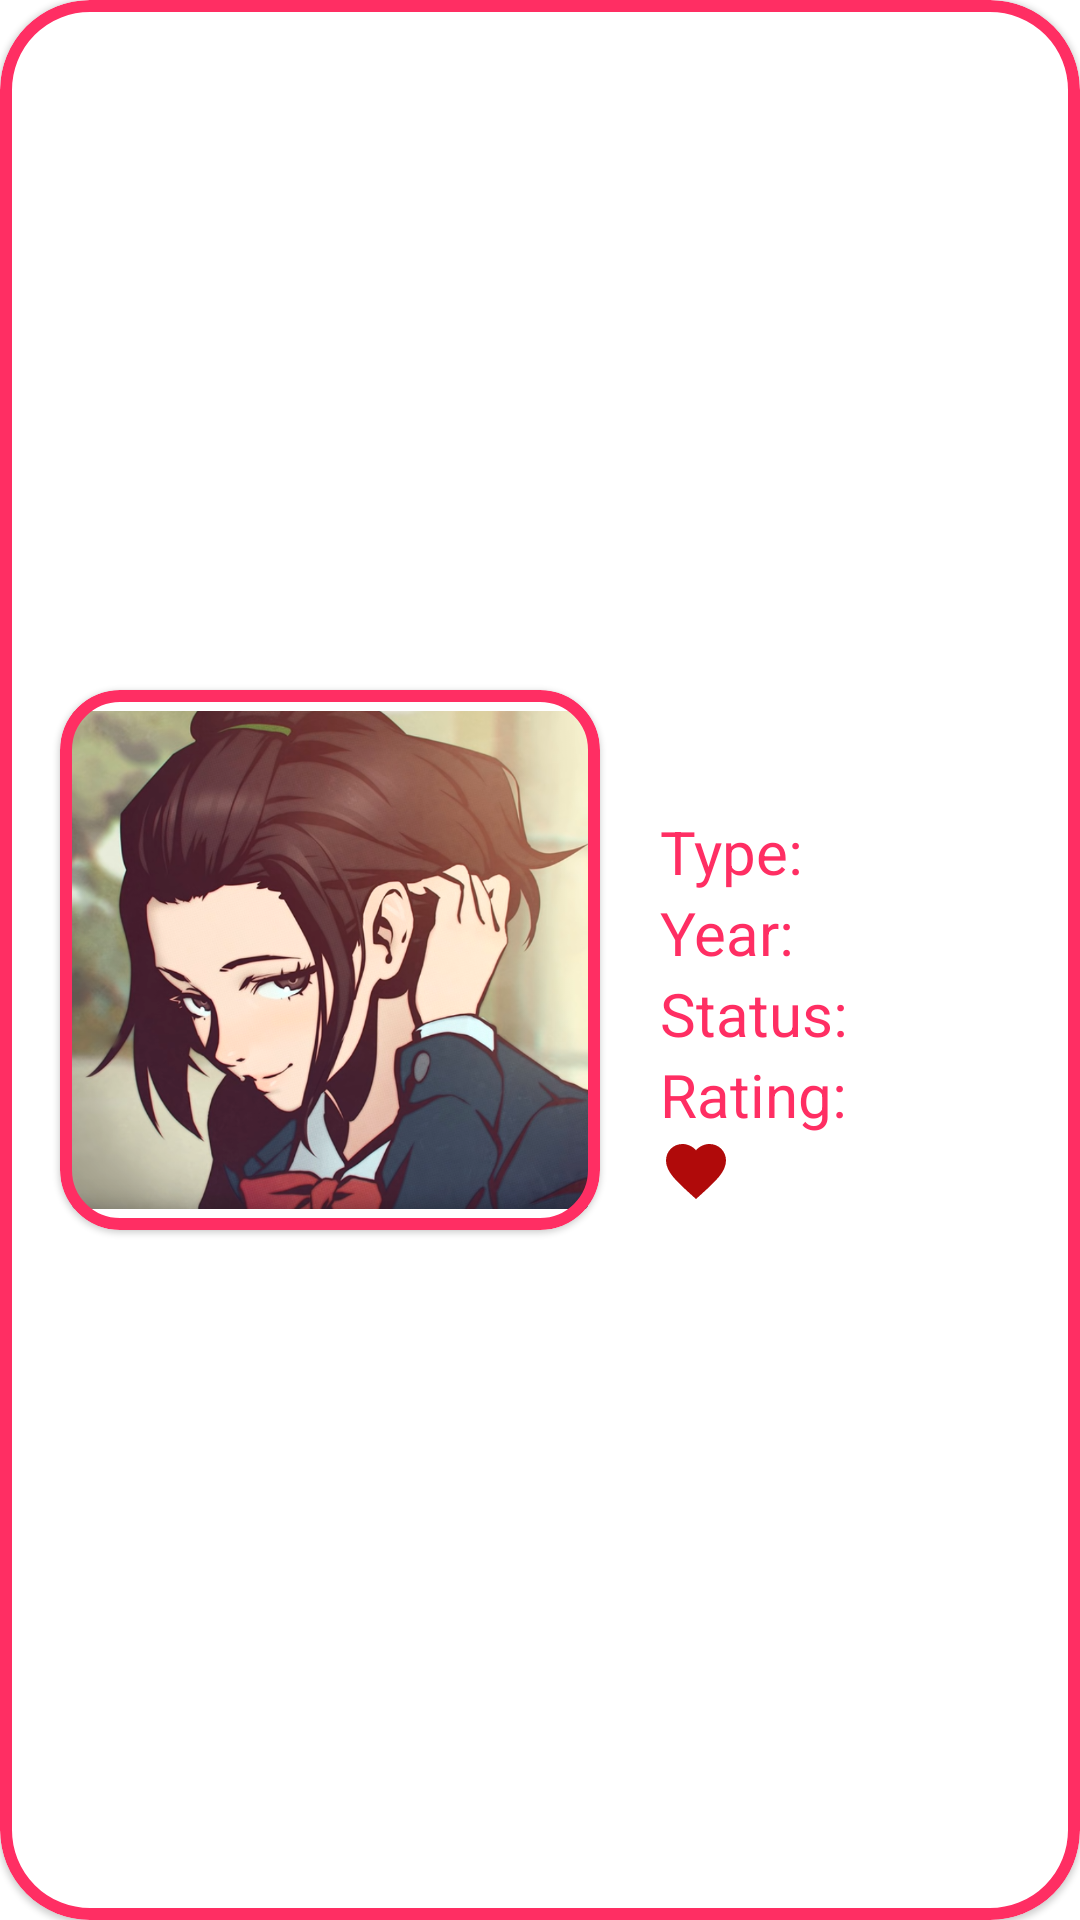

Point at icon controls on the screen. Image size 1080 × 1920, points as (x=x, y=y).
heart: (x=696, y=1171)
